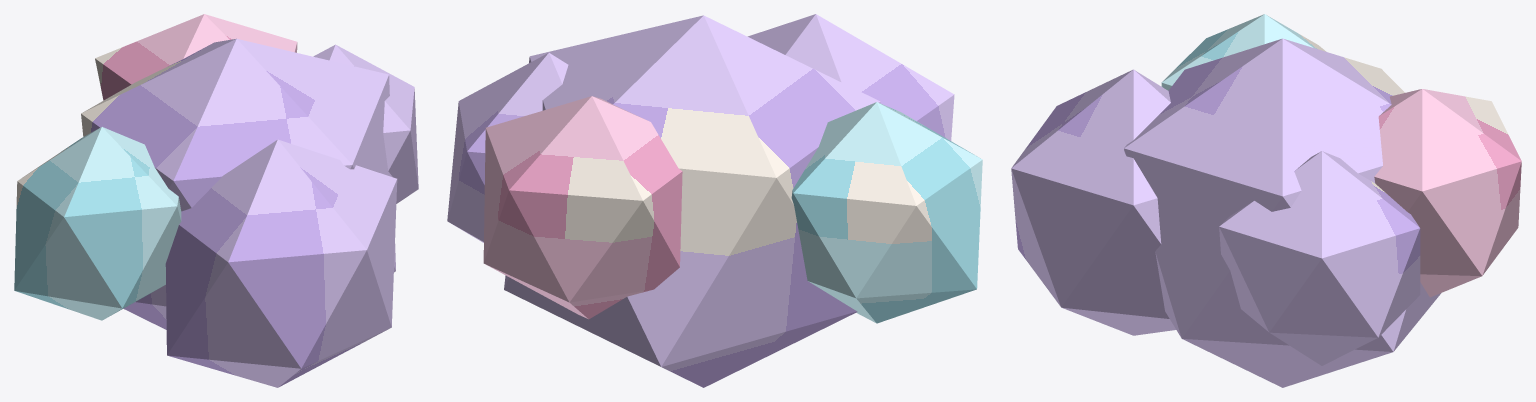
File: Smoke Puff Medium.fbx
3 renders of one model, left to right at view 1: azimuth 30°, elevation 25°; view 2: azimuth 150°, elevation 25°; view 3: azimuth 270°, elevation 25°, orthographic. The views are drawn at different scales.
Parts seen in each view (by area): view 1: Smoke Puff Medium puff; view 2: Smoke Puff Medium puff; view 3: Smoke Puff Medium puff.
Boxes of the visible parts, x1,y1,x2,y2 form: Smoke Puff Medium puff: (14, 14, 418, 387); Smoke Puff Medium puff: (447, 14, 982, 387); Smoke Puff Medium puff: (1011, 14, 1521, 387).
Size of the model in its own units: 0.868 by 0.6334 by 0.8387.
Materials: 3 (3 with a texture image).
